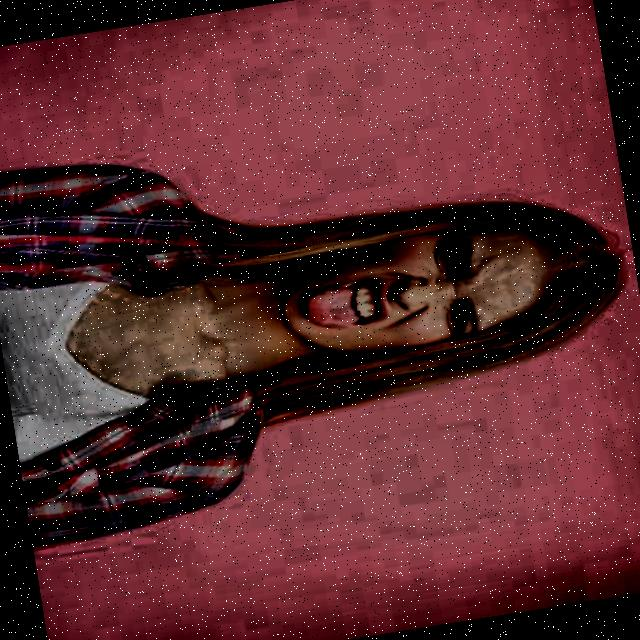disgust: (220, 157, 640, 435)
